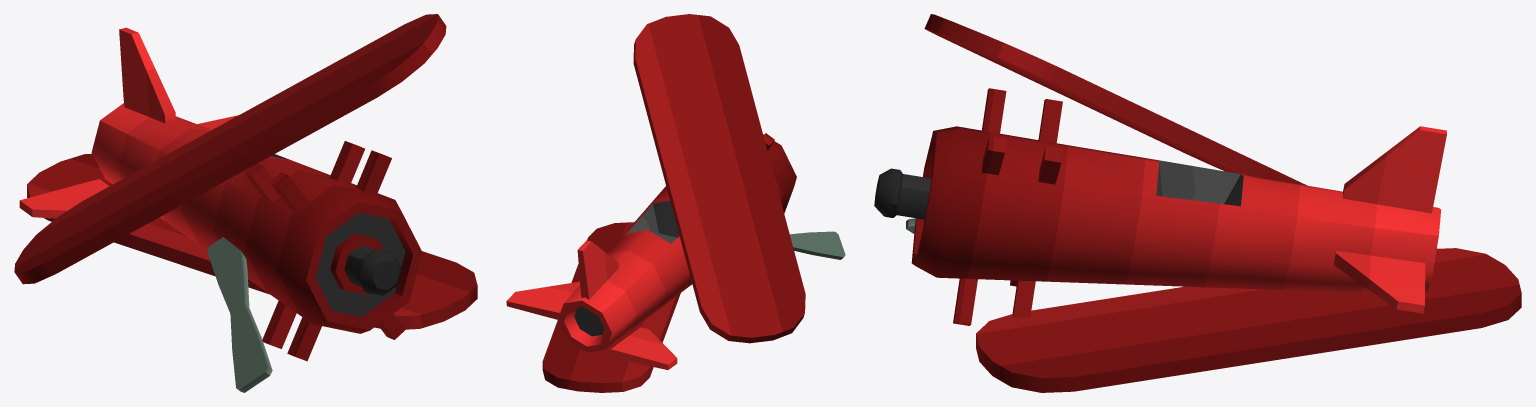
Rendered from destroyed-plane.fbx.
The picture shows the model from 3 angles, left to right: view 1: azimuth 30°, elevation 25°; view 2: azimuth 150°, elevation 25°; view 3: azimuth 270°, elevation 25°; orthographic projection. The views are drawn at different scales.
Visible parts, largest first — view 1: Plane.402; view 2: Plane.402; view 3: Plane.402.
Part boxes in pixels (<box>): Plane.402: <box>14,14,477,392</box>; Plane.402: <box>506,14,845,392</box>; Plane.402: <box>874,14,1521,392</box>.
Bounding box in the file's own units: 565 × 448 × 795.
